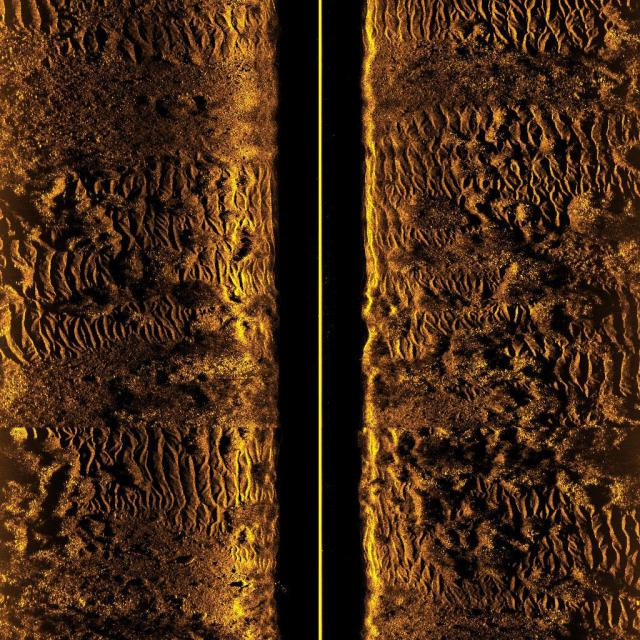mine: (570, 89, 602, 101), (189, 608, 209, 622)
